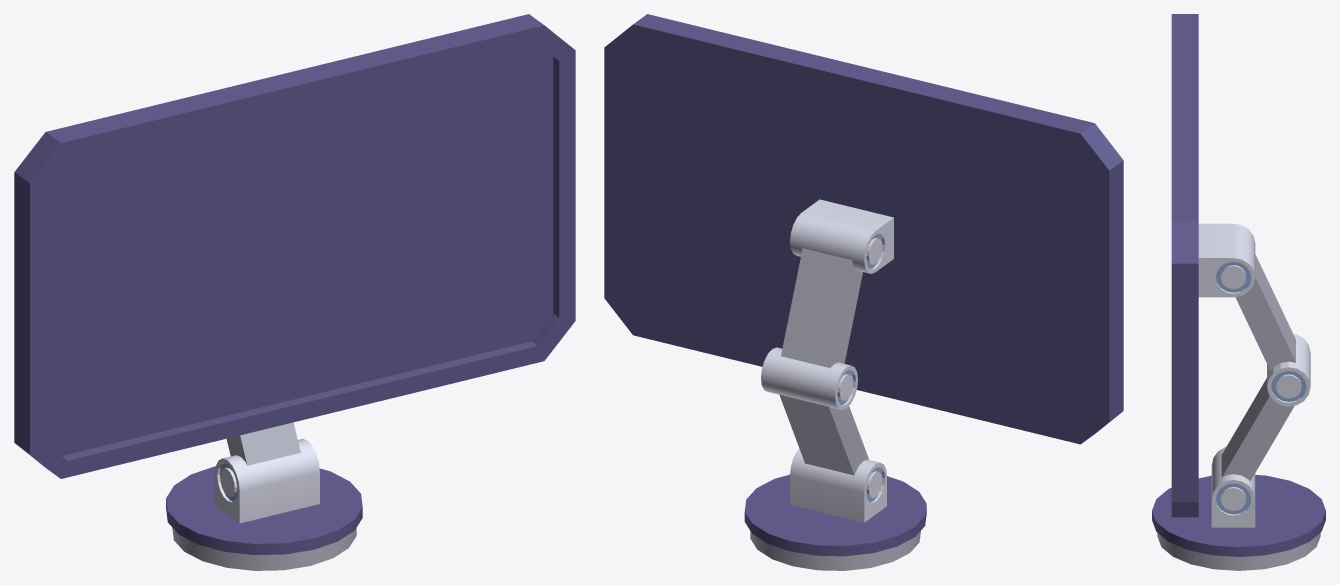
File: video.gltf
3 renders of one model, left to right at view 1: azimuth 30°, elevation 25°; view 2: azimuth 150°, elevation 25°; view 3: azimuth 270°, elevation 25°, orthographic. The views are drawn at different scales.
Parts seen in each view (by area): view 1: videoScreen_geo, videoBase2_geo, videoPivot1_geo, videoBase_geo, videoArm1_geo; view 2: videoScreen_geo, videoBase2_geo, videoArm2_geo, videoPivot3_geo, videoPivot1_geo, videoArm1_geo, videoPivot2_geo, videoBase_geo; view 3: videoScreen_geo, videoBase2_geo, videoPivot3_geo, videoArm1_geo, videoArm2_geo, videoPivot1_geo, videoBase_geo, videoPivot2_geo, videoHinge1_geo, videoHinge3_geo, videoHinge2_geo1.
Boxes of the visible parts, x1=… form: videoScreen_geo: x1=14, y1=14, x2=575, y2=478; videoBase2_geo: x1=166, y1=466, x2=362, y2=555; videoPivot1_geo: x1=215, y1=439, x2=319, y2=523; videoBase_geo: x1=172, y1=528, x2=356, y2=570; videoArm1_geo: x1=226, y1=422, x2=300, y2=465; videoScreen_geo: x1=604, y1=14, x2=1123, y2=444; videoBase2_geo: x1=744, y1=474, x2=926, y2=556; videoArm2_geo: x1=781, y1=248, x2=862, y2=368; videoPivot3_geo: x1=790, y1=199, x2=893, y2=273; videoPivot1_geo: x1=790, y1=448, x2=886, y2=522; videoArm1_geo: x1=779, y1=394, x2=868, y2=475; videoPivot2_geo: x1=761, y1=347, x2=857, y2=409; videoBase_geo: x1=750, y1=531, x2=920, y2=570; videoScreen_geo: x1=1171, y1=14, x2=1198, y2=517; videoBase2_geo: x1=1152, y1=475, x2=1325, y2=556; videoPivot3_geo: x1=1198, y1=223, x2=1255, y2=297; videoArm1_geo: x1=1221, y1=378, x2=1294, y2=481; videoArm2_geo: x1=1235, y1=254, x2=1295, y2=370; videoPivot1_geo: x1=1211, y1=447, x2=1255, y2=527; videoBase_geo: x1=1157, y1=533, x2=1320, y2=570; videoPivot2_geo: x1=1267, y1=333, x2=1310, y2=406; videoHinge1_geo: x1=1216, y1=483, x2=1250, y2=514; videoHinge3_geo: x1=1216, y1=261, x2=1250, y2=292; videoHinge2_geo1: x1=1271, y1=371, x2=1306, y2=401.
Bounding box in the file's own units: 10.2 × 8.5 × 3.2.
